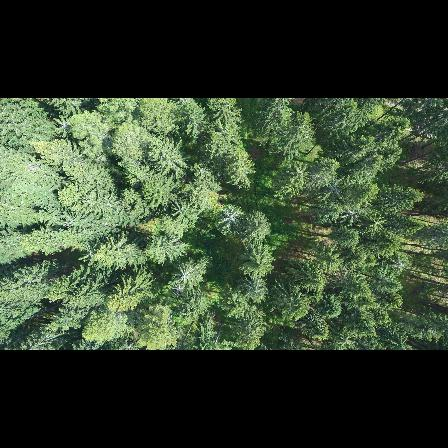Sick: (217, 204, 244, 232), (51, 112, 73, 140), (389, 254, 412, 276), (176, 264, 195, 287)
